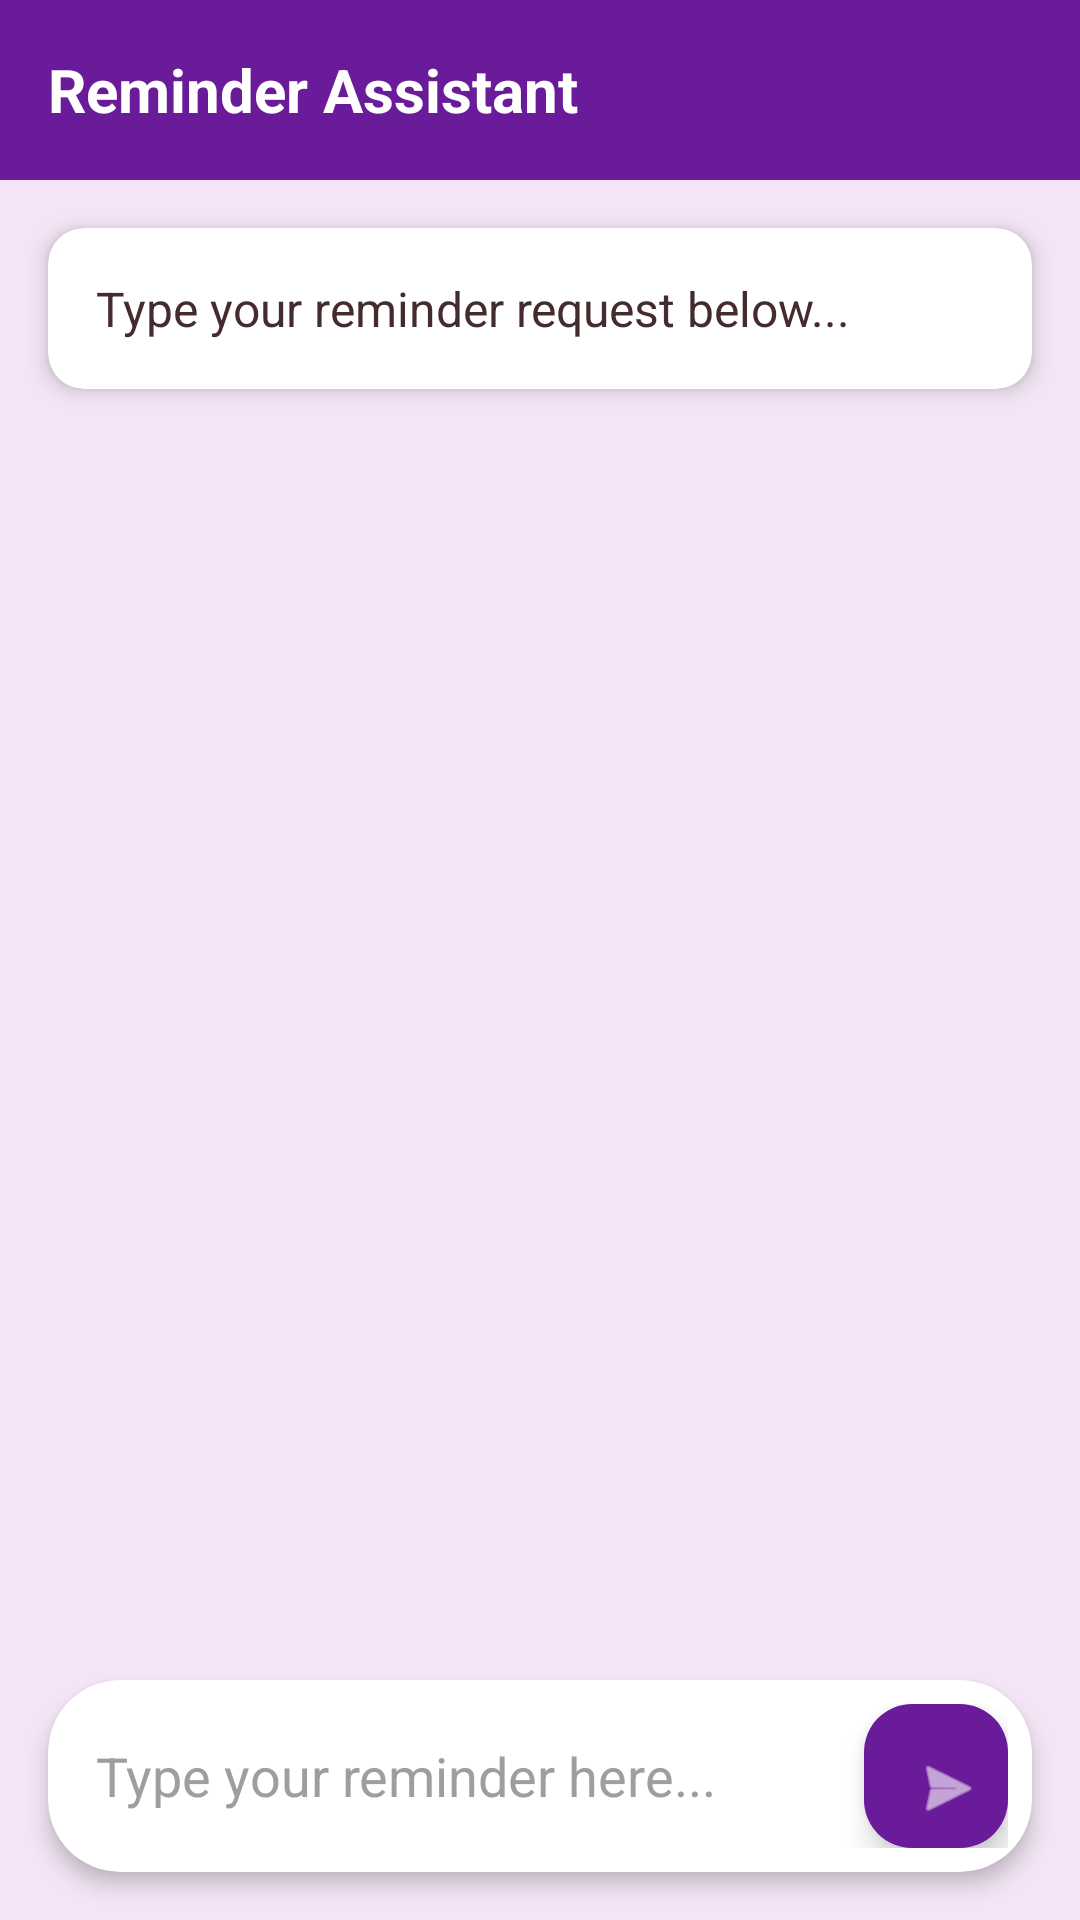

Named icons in this screenshot (1080x1920) and their centers, point (x, y):
Send: point (936, 1776)
